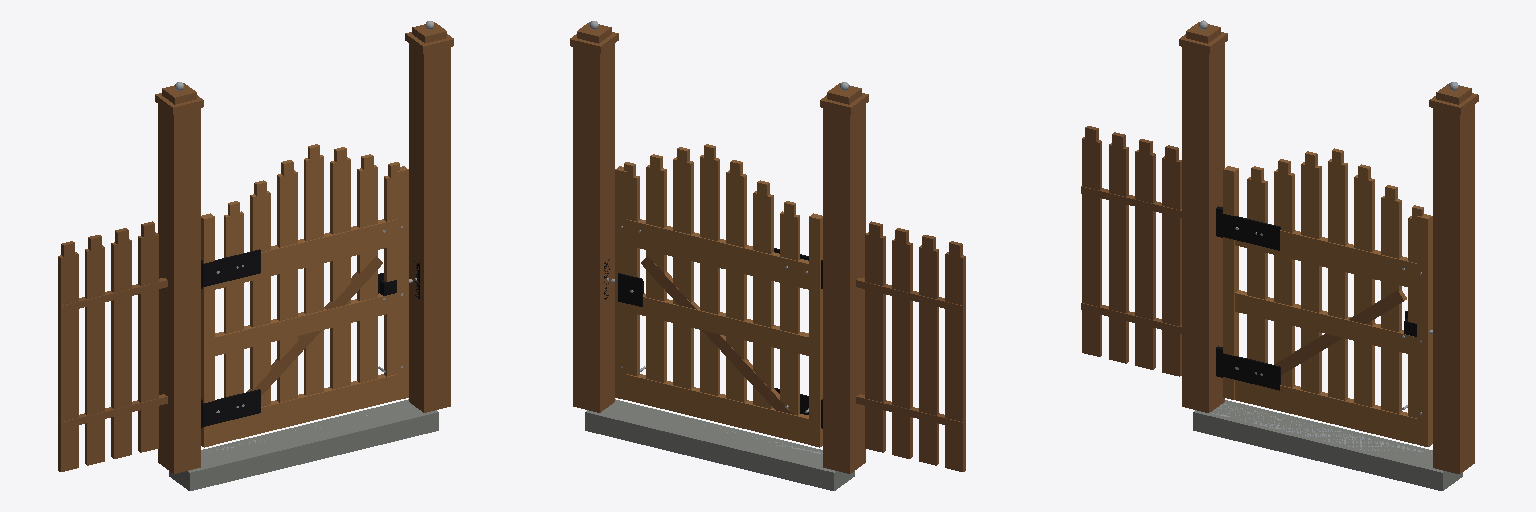
The robot description file, URDF, robot "garden_gate":
<robot name="garden_gate">
  <link name="hinge_assembly">
    <inertial>
      <origin xyz="-0.25 0 0.8" rpy="0 0 0" />
      <mass value="18" />
      <inertia ixx="3.8694" ixy="0" ixz="0" iyy="4.4166" iyz="0" izz="0.606" />
      </inertial>
    <visual>
      <origin xyz="0 0 0.775" rpy="0 0 0" />
      <geometry>
        <box size="0.12 0.12 1.55" />
        </geometry>
      <material name="aged_wood">
        <color rgba="0.53 0.37 0.24 1" />
        </material>
      </visual>
    <visual>
      <origin xyz="0 0 1.565" rpy="0 0 0" />
      <geometry>
        <box size="0.14 0.14 0.03" />
        </geometry>
      <material name="aged_wood">
        <color rgba="0.53 0.37 0.24 1" />
        </material>
      </visual>
    <visual>
      <origin xyz="0 0 1.595" rpy="0 0 0" />
      <geometry>
        <box size="0.1 0.1 0.03" />
        </geometry>
      <material name="aged_wood">
        <color rgba="0.53 0.37 0.24 1" />
        </material>
      </visual>
    <visual>
      <origin xyz="0 0 1.628" rpy="0 0 0" />
      <geometry>
        <sphere radius="0.018" />
        </geometry>
      <material name="galvanized">
        <color rgba="0.63 0.65 0.67 1" />
        </material>
      </visual>
    <visual>
      <origin xyz="-0.3 0 0.3" rpy="0 0 0" />
      <geometry>
        <box size="0.48 0.028 0.03" />
        </geometry>
      <material name="aged_wood">
        <color rgba="0.53 0.37 0.24 1" />
        </material>
      </visual>
    <visual>
      <origin xyz="-0.3 0 0.8" rpy="0 0 0" />
      <geometry>
        <box size="0.48 0.028 0.03" />
        </geometry>
      <material name="aged_wood">
        <color rgba="0.53 0.37 0.24 1" />
        </material>
      </visual>
    <visual>
      <origin xyz="-0.14 0 0.56" rpy="0 0 0" />
      <geometry>
        <box size="0.08 0.022 0.92" />
        </geometry>
      <material name="aged_wood">
        <color rgba="0.53 0.37 0.24 1" />
        </material>
      </visual>
    <visual>
      <origin xyz="-0.14 0 1.045" rpy="0 0 0" />
      <geometry>
        <box size="0.05 0.022 0.05" />
        </geometry>
      <material name="aged_wood">
        <color rgba="0.53 0.37 0.24 1" />
        </material>
      </visual>
    <visual>
      <origin xyz="-0.26 0 0.56" rpy="0 0 0" />
      <geometry>
        <box size="0.08 0.022 0.92" />
        </geometry>
      <material name="aged_wood">
        <color rgba="0.53 0.37 0.24 1" />
        </material>
      </visual>
    <visual>
      <origin xyz="-0.26 0 1.045" rpy="0 0 0" />
      <geometry>
        <box size="0.05 0.022 0.05" />
        </geometry>
      <material name="aged_wood">
        <color rgba="0.53 0.37 0.24 1" />
        </material>
      </visual>
    <visual>
      <origin xyz="-0.38 0 0.56" rpy="0 0 0" />
      <geometry>
        <box size="0.08 0.022 0.92" />
        </geometry>
      <material name="aged_wood">
        <color rgba="0.53 0.37 0.24 1" />
        </material>
      </visual>
    <visual>
      <origin xyz="-0.38 0 1.045" rpy="0 0 0" />
      <geometry>
        <box size="0.05 0.022 0.05" />
        </geometry>
      <material name="aged_wood">
        <color rgba="0.53 0.37 0.24 1" />
        </material>
      </visual>
    <visual>
      <origin xyz="-0.5 0 0.56" rpy="0 0 0" />
      <geometry>
        <box size="0.08 0.022 0.92" />
        </geometry>
      <material name="aged_wood">
        <color rgba="0.53 0.37 0.24 1" />
        </material>
      </visual>
    <visual>
      <origin xyz="-0.5 0 1.045" rpy="0 0 0" />
      <geometry>
        <box size="0.05 0.022 0.05" />
        </geometry>
      <material name="aged_wood">
        <color rgba="0.53 0.37 0.24 1" />
        </material>
      </visual>
    <visual>
      <origin xyz="0.09 0 0.2" rpy="0 0 0" />
      <geometry>
        <box size="0.072 0.02 0.12" />
        </geometry>
      <material name="black_steel">
        <color rgba="0.12 0.12 0.13 1" />
        </material>
      </visual>
    <visual>
      <origin xyz="0.094 0 0.2" rpy="0 0 0" />
      <geometry>
        <cylinder radius="0.004" length="0.072" />
        </geometry>
      <material name="galvanized">
        <color rgba="0.63 0.65 0.67 1" />
        </material>
      </visual>
    <visual>
      <origin xyz="0.09 0 0.8" rpy="0 0 0" />
      <geometry>
        <box size="0.072 0.02 0.12" />
        </geometry>
      <material name="black_steel">
        <color rgba="0.12 0.12 0.13 1" />
        </material>
      </visual>
    <visual>
      <origin xyz="0.094 0 0.8" rpy="0 0 0" />
      <geometry>
        <cylinder radius="0.004" length="0.072" />
        </geometry>
      <material name="galvanized">
        <color rgba="0.63 0.65 0.67 1" />
        </material>
      </visual>
    </link>
  <link name="threshold">
    <inertial>
      <origin xyz="0.56 0 -0.04" rpy="0 0 0" />
      <mass value="12" />
      <inertia ixx="0.032" ixy="0" ixz="0" iyy="1.2608" iyz="0" izz="1.28" />
      </inertial>
    <visual>
      <origin xyz="0.56 0 -0.04" rpy="0 0 0" />
      <geometry>
        <box size="1.12 0.16 0.08" />
        </geometry>
      <material name="concrete">
        <color rgba="0.53 0.54 0.52 1" />
        </material>
      </visual>
    <visual>
      <origin xyz="0.56 0 -0.0125" rpy="0 0 0" />
      <geometry>
        <box size="1.06 0.11 0.025" />
        </geometry>
      <material name="galvanized">
        <color rgba="0.63 0.65 0.67 1" />
        </material>
      </visual>
    </link>
  <link name="latch_post">
    <inertial>
      <origin xyz="0 0 0.775" rpy="0 0 0" />
      <mass value="8" />
      <inertia ixx="1.61127" ixy="0" ixz="0" iyy="1.61127" iyz="0" izz="0.0192" />
      </inertial>
    <visual>
      <origin xyz="0 0 0.775" rpy="0 0 0" />
      <geometry>
        <box size="0.12 0.12 1.55" />
        </geometry>
      <material name="aged_wood">
        <color rgba="0.53 0.37 0.24 1" />
        </material>
      </visual>
    <visual>
      <origin xyz="0 0 1.565" rpy="0 0 0" />
      <geometry>
        <box size="0.14 0.14 0.03" />
        </geometry>
      <material name="aged_wood">
        <color rgba="0.53 0.37 0.24 1" />
        </material>
      </visual>
    <visual>
      <origin xyz="0 0 1.595" rpy="0 0 0" />
      <geometry>
        <box size="0.1 0.1 0.03" />
        </geometry>
      <material name="aged_wood">
        <color rgba="0.53 0.37 0.24 1" />
        </material>
      </visual>
    <visual>
      <origin xyz="0 0 1.628" rpy="0 0 0" />
      <geometry>
        <sphere radius="0.018" />
        </geometry>
      <material name="galvanized">
        <color rgba="0.63 0.65 0.67 1" />
        </material>
      </visual>
    <visual>
      <origin xyz="-0.054 0 0.55" rpy="0 0 0" />
      <geometry>
        <box size="0.012 0.05 0.16" />
        </geometry>
      <material name="black_steel">
        <color rgba="0.12 0.12 0.13 1" />
        </material>
      </visual>
    <visual>
      <origin xyz="-0.044 0 0.55" rpy="0 0 0" />
      <geometry>
        <box size="0.03 0.03 0.08" />
        </geometry>
      <material name="galvanized">
        <color rgba="0.63 0.65 0.67 1" />
        </material>
      </visual>
    <visual>
      <origin xyz="-0.03 0 0.55" rpy="0 1.5708 0" />
      <geometry>
        <cylinder radius="0.005" length="0.07" />
        </geometry>
      <material name="galvanized">
        <color rgba="0.63 0.65 0.67 1" />
        </material>
      </visual>
    </link>
  <link name="gate_leaf">
    <inertial>
      <origin xyz="0.47 0 0.4" rpy="0 0 0" />
      <mass value="14" />
      <inertia ixx="1.46638" ixy="0" ixz="0" iyy="2.49433" iyz="0" izz="1.03378" />
      </inertial>
    <visual>
      <origin xyz="0.03 0 0.35" rpy="0 0 0" />
      <geometry>
        <box size="0.05 0.036 0.98" />
        </geometry>
      <material name="cedar">
        <color rgba="0.6 0.43 0.27 1" />
        </material>
      </visual>
    <visual>
      <origin xyz="0.9 0 0.35" rpy="0 0 0" />
      <geometry>
        <box size="0.05 0.036 0.98" />
        </geometry>
      <material name="cedar">
        <color rgba="0.6 0.43 0.27 1" />
        </material>
      </visual>
    <visual>
      <origin xyz="0.465 0 -0.085" rpy="0 0 0" />
      <geometry>
        <box size="0.82 0.032 0.11" />
        </geometry>
      <material name="cedar">
        <color rgba="0.6 0.43 0.27 1" />
        </material>
      </visual>
    <visual>
      <origin xyz="0.465 0 0.28" rpy="0 0 0" />
      <geometry>
        <box size="0.82 0.032 0.08" />
        </geometry>
      <material name="cedar">
        <color rgba="0.6 0.43 0.27 1" />
        </material>
      </visual>
    <visual>
      <origin xyz="0.465 0 0.58" rpy="0 0 0" />
      <geometry>
        <box size="0.82 0.032 0.11" />
        </geometry>
      <material name="cedar">
        <color rgba="0.6 0.43 0.27 1" />
        </material>
      </visual>
    <visual>
      <origin xyz="0.46 0 0.205" rpy="0 -0.680098 0" />
      <geometry>
        <box size="0.874586 0.024 0.05" />
        </geometry>
      <material name="aged_wood">
        <color rgba="0.53 0.37 0.24 1" />
        </material>
      </visual>
    <visual>
      <origin xyz="0.15 0 0.35" rpy="0 0 0" />
      <geometry>
        <box size="0.08 0.022 0.94" />
        </geometry>
      <material name="cedar">
        <color rgba="0.6 0.43 0.27 1" />
        </material>
      </visual>
    <visual>
      <origin xyz="0.15 0 0.845" rpy="0 0 0" />
      <geometry>
        <box size="0.044 0.022 0.05" />
        </geometry>
      <material name="cedar">
        <color rgba="0.6 0.43 0.27 1" />
        </material>
      </visual>
    <visual>
      <origin xyz="0.27 0 0.38" rpy="0 0 0" />
      <geometry>
        <box size="0.08 0.022 1" />
        </geometry>
      <material name="cedar">
        <color rgba="0.6 0.43 0.27 1" />
        </material>
      </visual>
    <visual>
      <origin xyz="0.27 0 0.905" rpy="0 0 0" />
      <geometry>
        <box size="0.044 0.022 0.05" />
        </geometry>
      <material name="cedar">
        <color rgba="0.6 0.43 0.27 1" />
        </material>
      </visual>
    <visual>
      <origin xyz="0.39 0 0.41" rpy="0 0 0" />
      <geometry>
        <box size="0.08 0.022 1.06" />
        </geometry>
      <material name="cedar">
        <color rgba="0.6 0.43 0.27 1" />
        </material>
      </visual>
    <visual>
      <origin xyz="0.39 0 0.965" rpy="0 0 0" />
      <geometry>
        <box size="0.044 0.022 0.05" />
        </geometry>
      <material name="cedar">
        <color rgba="0.6 0.43 0.27 1" />
        </material>
      </visual>
    <visual>
      <origin xyz="0.51 0 0.43" rpy="0 0 0" />
      <geometry>
        <box size="0.08 0.022 1.1" />
        </geometry>
      <material name="cedar">
        <color rgba="0.6 0.43 0.27 1" />
        </material>
      </visual>
    <visual>
      <origin xyz="0.51 0 1.005" rpy="0 0 0" />
      <geometry>
        <box size="0.044 0.022 0.05" />
        </geometry>
      <material name="cedar">
        <color rgba="0.6 0.43 0.27 1" />
        </material>
      </visual>
    <visual>
      <origin xyz="0.63 0 0.41" rpy="0 0 0" />
      <geometry>
        <box size="0.08 0.022 1.06" />
        </geometry>
      <material name="cedar">
        <color rgba="0.6 0.43 0.27 1" />
        </material>
      </visual>
    <visual>
      <origin xyz="0.63 0 0.965" rpy="0 0 0" />
      <geometry>
        <box size="0.044 0.022 0.05" />
        </geometry>
      <material name="cedar">
        <color rgba="0.6 0.43 0.27 1" />
        </material>
      </visual>
    <visual>
      <origin xyz="0.75 0 0.38" rpy="0 0 0" />
      <geometry>
        <box size="0.08 0.022 1" />
        </geometry>
      <material name="cedar">
        <color rgba="0.6 0.43 0.27 1" />
        </material>
      </visual>
    <visual>
      <origin xyz="0.75 0 0.905" rpy="0 0 0" />
      <geometry>
        <box size="0.044 0.022 0.05" />
        </geometry>
      <material name="cedar">
        <color rgba="0.6 0.43 0.27 1" />
        </material>
      </visual>
    <visual>
      <origin xyz="0.87 0 0.35" rpy="0 0 0" />
      <geometry>
        <box size="0.08 0.022 0.94" />
        </geometry>
      <material name="cedar">
        <color rgba="0.6 0.43 0.27 1" />
        </material>
      </visual>
    <visual>
      <origin xyz="0.87 0 0.845" rpy="0 0 0" />
      <geometry>
        <box size="0.044 0.022 0.05" />
        </geometry>
      <material name="cedar">
        <color rgba="0.6 0.43 0.27 1" />
        </material>
      </visual>
    <visual>
      <origin xyz="0.13 -0.016 0" rpy="0 0 0" />
      <geometry>
        <box size="0.26 0.008 0.1" />
        </geometry>
      <material name="black_steel">
        <color rgba="0.12 0.12 0.13 1" />
        </material>
      </visual>
    <visual>
      <origin xyz="0.07 -0.016 0" rpy="1.5708 0 0" />
      <geometry>
        <cylinder radius="0.006" length="0.01" />
        </geometry>
      <material name="galvanized">
        <color rgba="0.63 0.65 0.67 1" />
        </material>
      </visual>
    <visual>
      <origin xyz="0.18 -0.016 0" rpy="1.5708 0 0" />
      <geometry>
        <cylinder radius="0.006" length="0.01" />
        </geometry>
      <material name="galvanized">
        <color rgba="0.63 0.65 0.67 1" />
        </material>
      </visual>
    <visual>
      <origin xyz="0.13 -0.016 0.6" rpy="0 0 0" />
      <geometry>
        <box size="0.26 0.008 0.1" />
        </geometry>
      <material name="black_steel">
        <color rgba="0.12 0.12 0.13 1" />
        </material>
      </visual>
    <visual>
      <origin xyz="0.07 -0.016 0.6" rpy="1.5708 0 0" />
      <geometry>
        <cylinder radius="0.006" length="0.01" />
        </geometry>
      <material name="galvanized">
        <color rgba="0.63 0.65 0.67 1" />
        </material>
      </visual>
    <visual>
      <origin xyz="0.18 -0.016 0.6" rpy="1.5708 0 0" />
      <geometry>
        <cylinder radius="0.006" length="0.01" />
        </geometry>
      <material name="galvanized">
        <color rgba="0.63 0.65 0.67 1" />
        </material>
      </visual>
    <visual>
      <origin xyz="0.855 0.022 0.34" rpy="0 0 0" />
      <geometry>
        <box size="0.11 0.006 0.12" />
        </geometry>
      <material name="black_steel">
        <color rgba="0.12 0.12 0.13 1" />
        </material>
      </visual>
    <visual>
      <origin xyz="0.865 0 0.34" rpy="0 0 0" />
      <geometry>
        <box size="0.1 0.028 0.07" />
        </geometry>
      <material name="black_steel">
        <color rgba="0.12 0.12 0.13 1" />
        </material>
      </visual>
    <visual>
      <origin xyz="0.905 0 0.35" rpy="0 1.5708 0" />
      <geometry>
        <cylinder radius="0.008" length="0.09" />
        </geometry>
      <material name="galvanized">
        <color rgba="0.63 0.65 0.67 1" />
        </material>
      </visual>
    <visual>
      <origin xyz="0.845 0.016 0.34" rpy="1.5708 0 0" />
      <geometry>
        <cylinder radius="0.006" length="0.032" />
        </geometry>
      <material name="galvanized">
        <color rgba="0.63 0.65 0.67 1" />
        </material>
      </visual>
    <visual>
      <origin xyz="0.845 0.016 0.34" rpy="0 0 0" />
      <geometry>
        <mesh filename="assets/meshes/gate_latch_handle.obj" />
        </geometry>
      <material name="black_steel">
        <color rgba="0.12 0.12 0.13 1" />
        </material>
      </visual>
    <visual>
      <origin xyz="0.065 0 0" rpy="1.5708 0 0" />
      <geometry>
        <cylinder radius="0.005" length="0.042" />
        </geometry>
      <material name="galvanized">
        <color rgba="0.63 0.65 0.67 1" />
        </material>
      </visual>
    <visual>
      <origin xyz="0.065 0 0.6" rpy="1.5708 0 0" />
      <geometry>
        <cylinder radius="0.005" length="0.042" />
        </geometry>
      <material name="galvanized">
        <color rgba="0.63 0.65 0.67 1" />
        </material>
      </visual>
    <visual>
      <origin xyz="0.155 0 0" rpy="1.5708 0 0" />
      <geometry>
        <cylinder radius="0.005" length="0.042" />
        </geometry>
      <material name="galvanized">
        <color rgba="0.63 0.65 0.67 1" />
        </material>
      </visual>
    <visual>
      <origin xyz="0.155 0 0.6" rpy="1.5708 0 0" />
      <geometry>
        <cylinder radius="0.005" length="0.042" />
        </geometry>
      <material name="galvanized">
        <color rgba="0.63 0.65 0.67 1" />
        </material>
      </visual>
    <visual>
      <origin xyz="0.815 0 0" rpy="1.5708 0 0" />
      <geometry>
        <cylinder radius="0.005" length="0.042" />
        </geometry>
      <material name="galvanized">
        <color rgba="0.63 0.65 0.67 1" />
        </material>
      </visual>
    <visual>
      <origin xyz="0.815 0 0.6" rpy="1.5708 0 0" />
      <geometry>
        <cylinder radius="0.005" length="0.042" />
        </geometry>
      <material name="galvanized">
        <color rgba="0.63 0.65 0.67 1" />
        </material>
      </visual>
    <visual>
      <origin xyz="0.815 0 0.31" rpy="1.5708 0 0" />
      <geometry>
        <cylinder radius="0.005" length="0.042" />
        </geometry>
      <material name="galvanized">
        <color rgba="0.63 0.65 0.67 1" />
        </material>
      </visual>
    <visual>
      <origin xyz="0.895 0 0" rpy="1.5708 0 0" />
      <geometry>
        <cylinder radius="0.005" length="0.042" />
        </geometry>
      <material name="galvanized">
        <color rgba="0.63 0.65 0.67 1" />
        </material>
      </visual>
    <visual>
      <origin xyz="0.895 0 0.6" rpy="1.5708 0 0" />
      <geometry>
        <cylinder radius="0.005" length="0.042" />
        </geometry>
      <material name="galvanized">
        <color rgba="0.63 0.65 0.67 1" />
        </material>
      </visual>
    <visual>
      <origin xyz="0.895 0 0.31" rpy="1.5708 0 0" />
      <geometry>
        <cylinder radius="0.005" length="0.042" />
        </geometry>
      <material name="galvanized">
        <color rgba="0.63 0.65 0.67 1" />
        </material>
      </visual>
    </link>
  <joint name="hinge_to_threshold" type="fixed">
    <parent link="hinge_assembly" />
    <child link="threshold" />
    </joint>
  <joint name="threshold_to_latch_post" type="fixed">
    <origin xyz="1.125 0 0" rpy="0 0 0" />
    <parent link="threshold" />
    <child link="latch_post" />
    </joint>
  <joint name="gate_swing" type="revolute">
    <origin xyz="0.094 0 0.2" rpy="0 0 0" />
    <parent link="hinge_assembly" />
    <child link="gate_leaf" />
    <axis xyz="0 0 1" />
    <limit effort="25" velocity="2" lower="0" upper="1.45" />
    </joint>
  </robot>

--- Facts derived from the render (not from the file) ---
Views: 3 orthographic renders of the robot side by side, from view 1: azimuth 30°, elevation 25°; view 2: azimuth 150°, elevation 25°; view 3: azimuth 330°, elevation 25°.
Model garden_gate with 4 links and 3 joints (1 revolute, 2 fixed), rooted at hinge_assembly, posed every joint at zero.
Visible links, largest first — view 1: gate_leaf, hinge_assembly, latch_post, threshold; view 2: gate_leaf, hinge_assembly, latch_post, threshold; view 3: gate_leaf, hinge_assembly, latch_post, threshold.
Link boxes in pixels (x1=…): gate_leaf: x1=201, y1=144, x2=412, y2=447; hinge_assembly: x1=58, y1=82, x2=203, y2=473; latch_post: x1=405, y1=21, x2=453, y2=412; threshold: x1=169, y1=399, x2=438, y2=490; gate_leaf: x1=611, y1=144, x2=822, y2=447; hinge_assembly: x1=820, y1=82, x2=965, y2=473; latch_post: x1=570, y1=21, x2=618, y2=412; threshold: x1=585, y1=399, x2=854, y2=490; gate_leaf: x1=1222, y1=148, x2=1432, y2=446; hinge_assembly: x1=1081, y1=20, x2=1227, y2=412; latch_post: x1=1429, y1=82, x2=1478, y2=473; threshold: x1=1193, y1=400, x2=1462, y2=490.
Bounding box of the posed robot: 1.74 × 0.16 × 1.73 m (x, y, z).
0 mesh visuals loaded from 1 distinct referenced files (none loaded); not drawn: 1 (reference not matched to a file when rendering).
